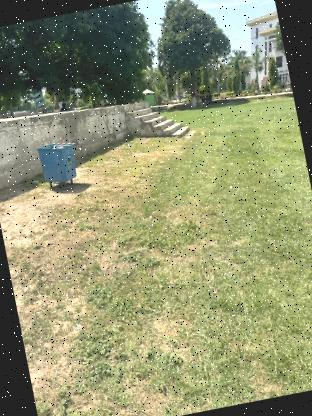stair: (124, 96, 190, 152)
